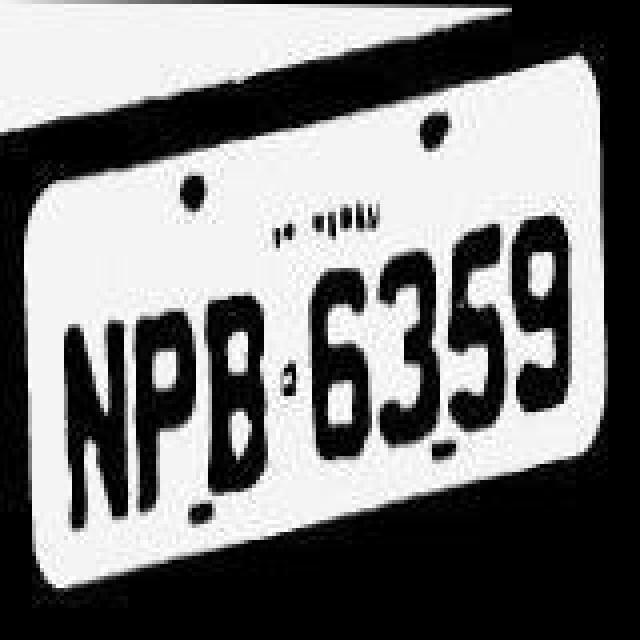3: (370, 230, 446, 450)
5: (442, 214, 510, 438)
6: (306, 250, 374, 502)
9: (508, 208, 580, 428)
B: (204, 272, 276, 500)
N: (58, 258, 126, 546)
P: (132, 244, 204, 512)
